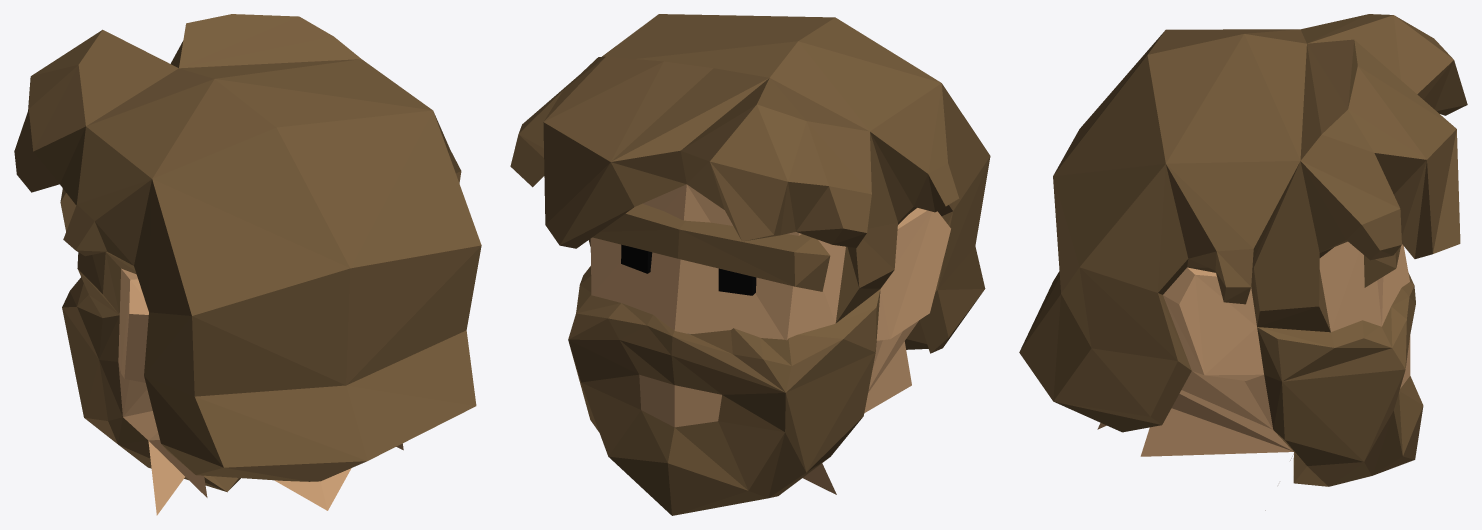
File: Head.obj
The picture shows the model from 3 angles, left to right: view 1: azimuth 30°, elevation 25°; view 2: azimuth 150°, elevation 25°; view 3: azimuth 270°, elevation 25°; orthographic projection. The views are drawn at different scales.
Bounding box in the file's own units: 0.3286 × 0.3641 × 0.3372.
1 material, 1 textured.
